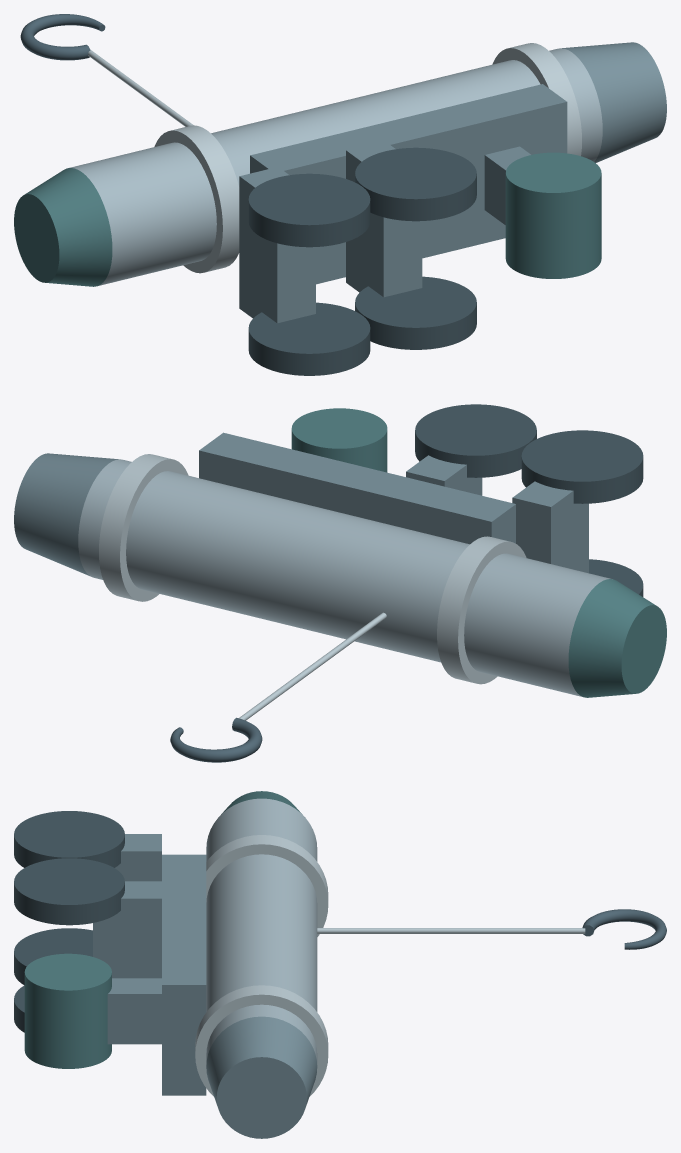
3 views of the same model, one above another, from view 1: azimuth 30°, elevation 25°; view 2: azimuth 150°, elevation 25°; view 3: azimuth 270°, elevation 25° (orthographic). The views are drawn at different scales.
Visible parts, largest first — view 1: 小车_行走轮, 葫芦_卷筒外壳, 小车_悬挂座, 小车_侧板连接座, 小车_行走传动, 葫芦_电机端罩, 葫芦_外壳环箍, 葫芦_减速端盖, 吊具_吊钩, 小车_传动托座, 吊具_示意钢丝绳; view 2: 葫芦_卷筒外壳, 小车_悬挂座, 小车_行走轮, 葫芦_外壳环箍, 葫芦_电机端罩, 葫芦_减速端盖, 小车_侧板连接座, 小车_行走传动, 吊具_吊钩, 吊具_示意钢丝绳; view 3: 葫芦_卷筒外壳, 小车_行走轮, 葫芦_减速端盖, 小车_悬挂座, 小车_行走传动, 小车_侧板连接座, 葫芦_外壳环箍, 小车_传动托座, 吊具_示意钢丝绳, 吊具_吊钩.
Boxes of the visible parts, <box> form: 小车_行走轮: <box>248,147,476,375</box>; 葫芦_卷筒外壳: <box>68,48,602,285</box>; 小车_悬挂座: <box>250,84,567,284</box>; 小车_侧板连接座: <box>239,141,422,323</box>; 小车_行走传动: <box>505,152,601,278</box>; 葫芦_电机端罩: <box>14,168,112,286</box>; 葫芦_外壳环箍: <box>154,43,581,273</box>; 葫芦_减速端盖: <box>562,42,666,162</box>; 吊具_吊钩: <box>20,14,105,60</box>; 小车_传动托座: <box>484,146,530,224</box>; 吊具_示意钢丝绳: <box>88,49,193,126</box>; 葫芦_卷筒外壳: <box>78,459,612,696</box>; 小车_悬挂座: <box>199,432,515,544</box>; 小车_行走轮: <box>415,404,643,596</box>; 葫芦_外壳环箍: <box>99,454,526,684</box>; 葫芦_电机端罩: <box>568,579,666,697</box>; 葫芦_减速端盖: <box>14,453,118,576</box>; 小车_侧板连接座: <box>406,455,588,573</box>; 小车_行走传动: <box>291,408,387,472</box>; 吊具_吊钩: <box>170,717,262,762</box>; 吊具_示意钢丝绳: <box>239,612,386,720</box>; 葫芦_卷筒外壳: <box>206,798,317,1064</box>; 小车_行走轮: <box>14,811,124,1032</box>; 葫芦_减速端盖: <box>206,1016,317,1138</box>; 小车_悬挂座: <box>162,854,206,1095</box>; 小车_行走传动: <box>24,953,111,1068</box>; 小车_侧板连接座: <box>93,834,161,978</box>; 葫芦_外壳环箍: <box>195,835,328,1096</box>; 小车_传动托座: <box>107,978,161,1044</box>; 吊具_示意钢丝绳: <box>317,928,585,933</box>; 吊具_吊钩: <box>582,909,666,949</box>.
Size of the model in its own units: 1.55 by 0.369 by 1.59.
